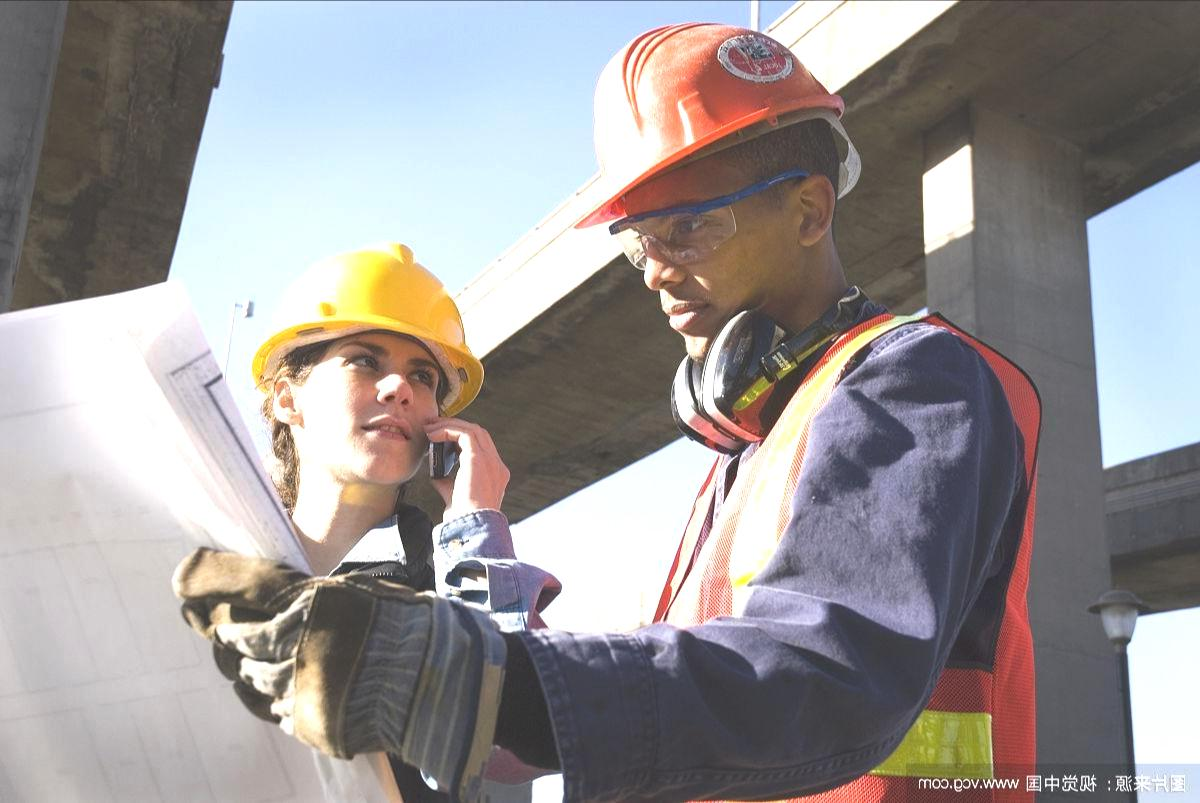helmet: (561, 16, 851, 234), (247, 226, 499, 400)
person: (578, 10, 1048, 803), (239, 241, 521, 591)
